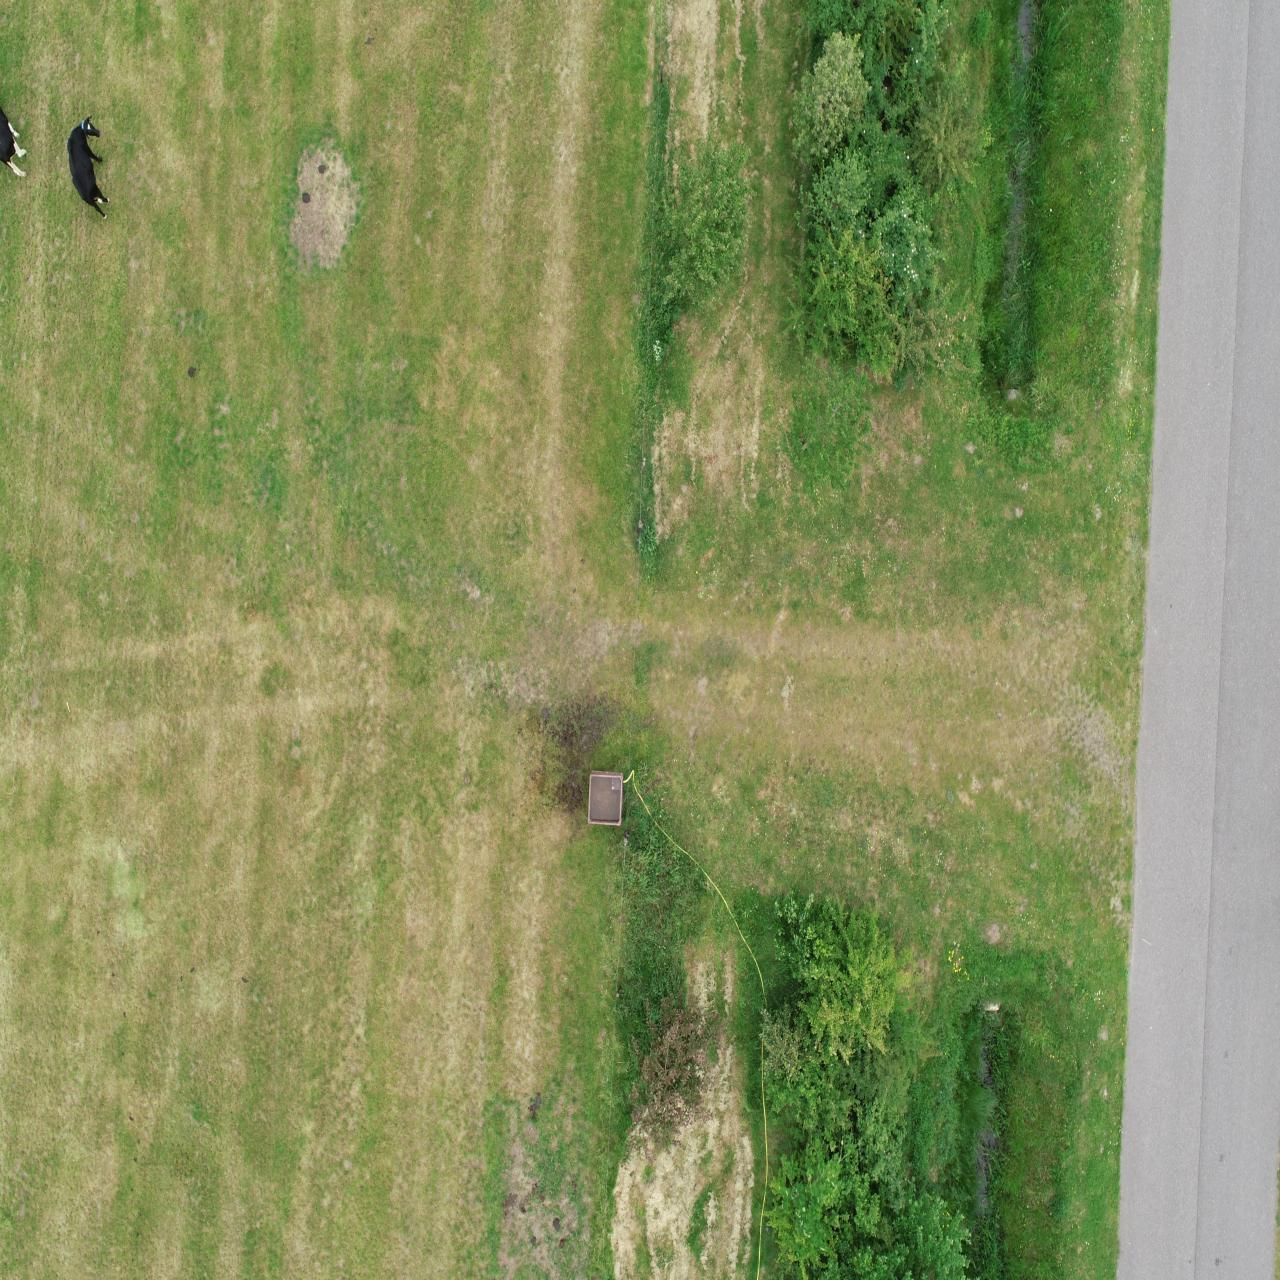cow: (67, 115, 109, 219)
